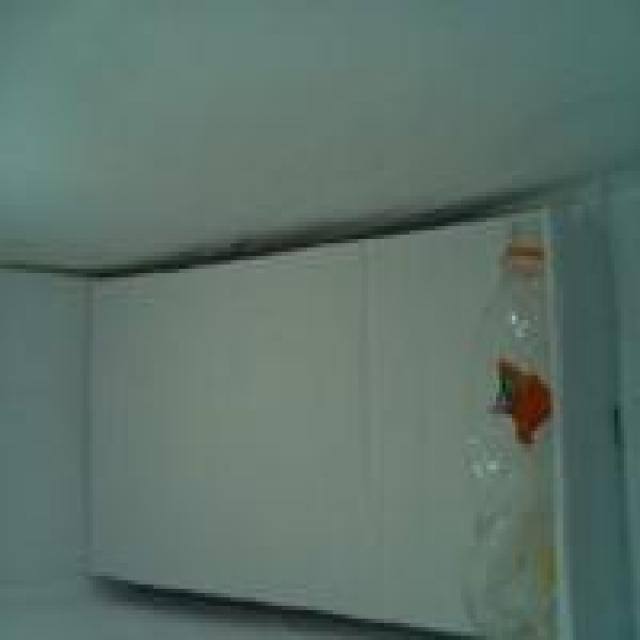bottle: (452, 216, 588, 634)
